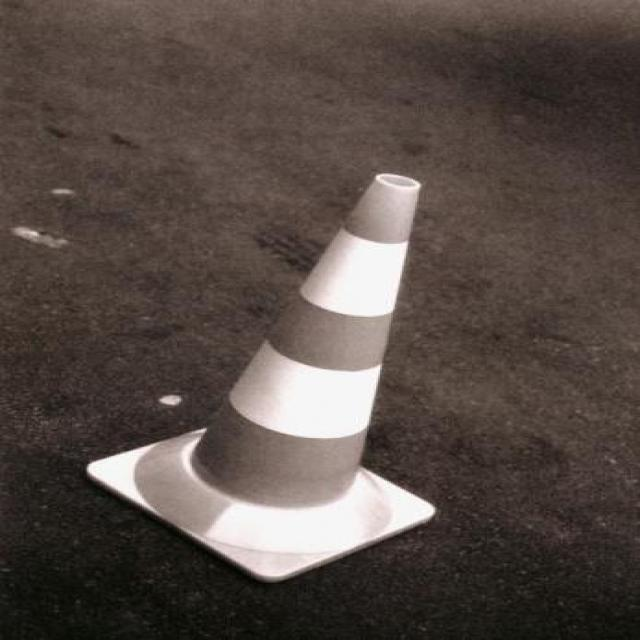Cone: (88, 174, 439, 586)
